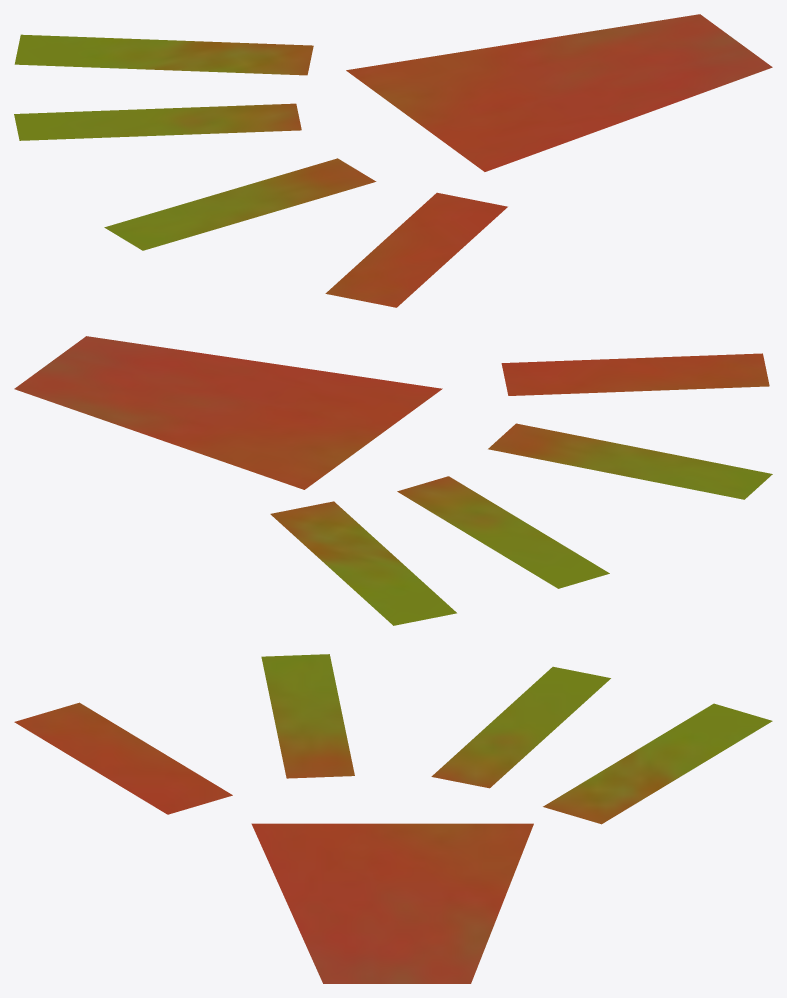
File: SM_paint_splatter_2.fbx
3 renders of one model, top to bottom at view 1: azimuth 30°, elevation 25°; view 2: azimuth 150°, elevation 25°; view 3: azimuth 270°, elevation 25°, orthographic. The views are drawn at different scales.
Parts seen in each view (by area): view 1: paint_splatter_2; view 2: paint_splatter_2; view 3: paint_splatter_2.
Boxes of the visible parts, box(x1,y1,x2,y2) form: paint_splatter_2: box(14, 14, 772, 307); paint_splatter_2: box(14, 336, 772, 625); paint_splatter_2: box(14, 654, 772, 983).
Size of the model in its own units: 54.32 by 3.24e-15 by 52.84.
Materials: 1 (1 with a texture image).
